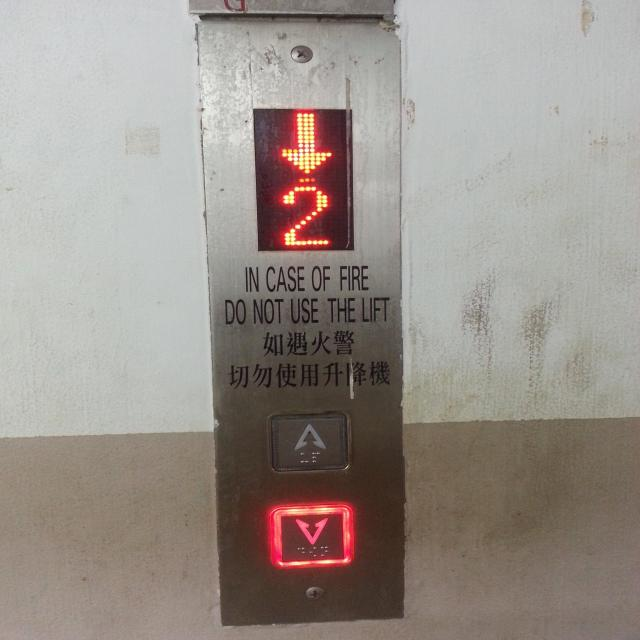down: (268, 498, 362, 574)
led: (254, 110, 358, 256)
up: (263, 409, 358, 478)
